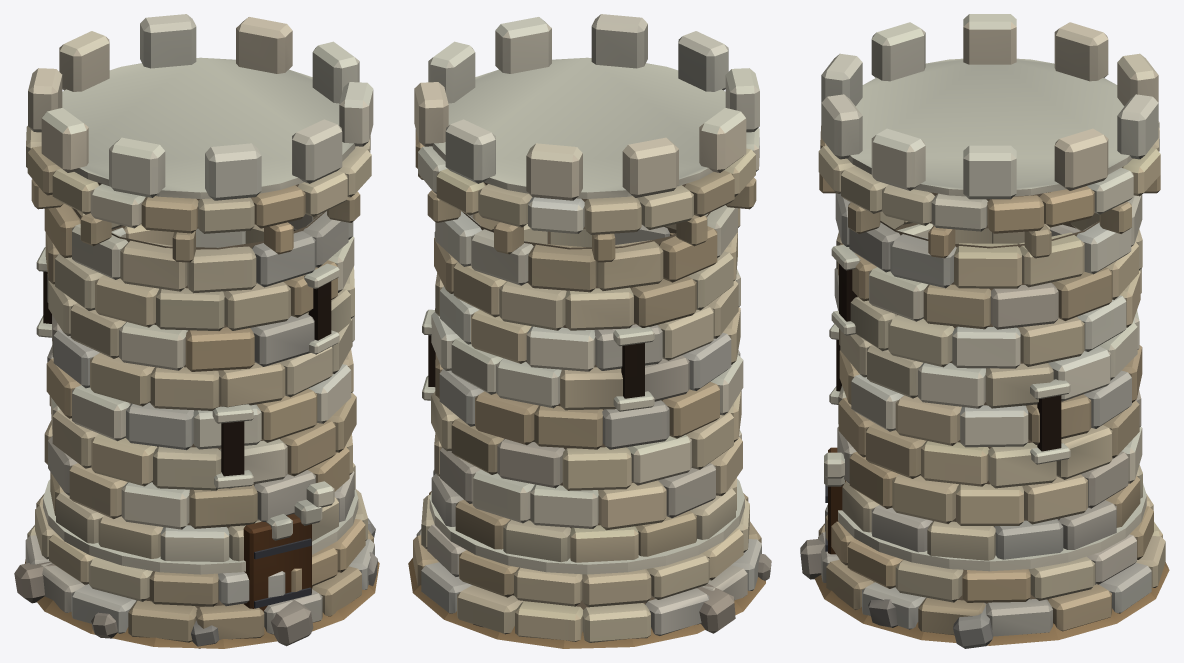
Rendered from archer_tower_2.glb.
3 views of the same model, side by side, from view 1: azimuth 30°, elevation 25°; view 2: azimuth 150°, elevation 25°; view 3: azimuth 270°, elevation 25° (orthographic).
Parts seen in each view (by area): view 1: archer_tower_2; view 2: archer_tower_2; view 3: archer_tower_2.
Part boxes in pixels (left/top/right/bottom): archer_tower_2: left=14, top=14, right=379, bottom=648; archer_tower_2: left=408, top=14, right=771, bottom=648; archer_tower_2: left=800, top=14, right=1169, bottom=648.
Bounding box in the file's own units: 0.6245 × 0.9075 × 0.6168.
